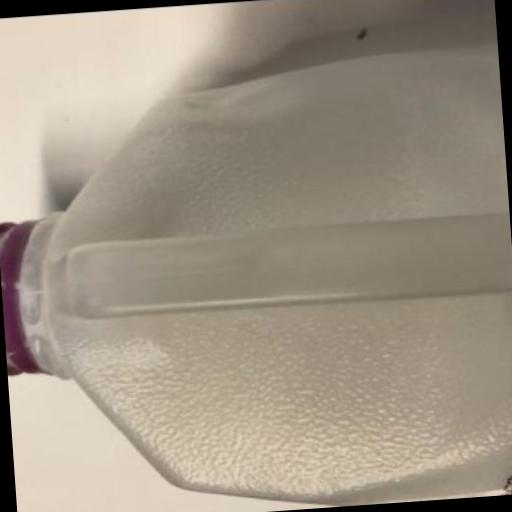plastic: (0, 44, 512, 512), (0, 219, 43, 376)
